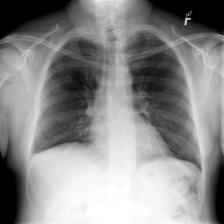normal: (26, 28, 205, 173)
